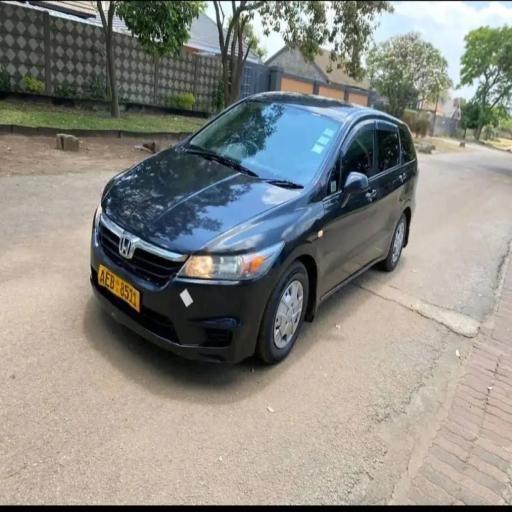number-plates: (97, 264, 138, 311)
